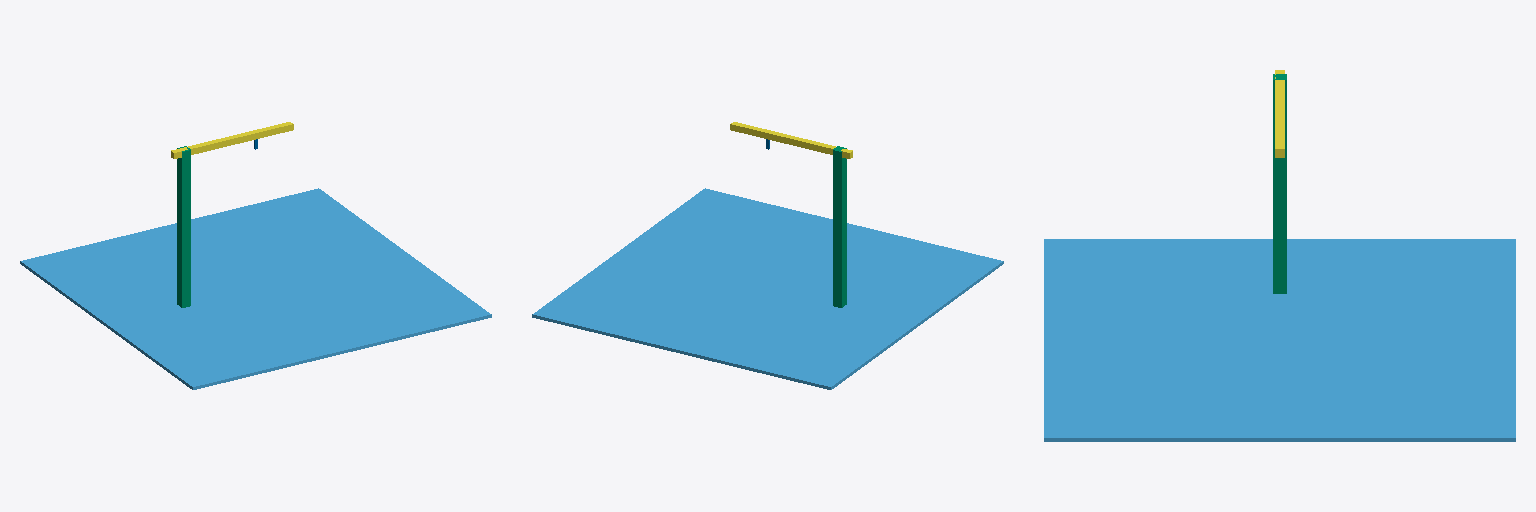
The robot description file, URDF, robot "crane_world":
<?xml version="1.0" ?>
<!-- Visualization URDF for the suspended WALKMAN setup.
     The coordinate origin is at the crane attachment point (crane_ft).
     The robot hangs below with Waist at approximately z=-0.9.

     Geometry reference (relative to crane_ft at origin):
       crane_ft = z=0  (attachment point / coordinate origin)
       Waist    ≈ z=-0.9  (through kinematic chain)
       feet     ≈ z=-1.9
       ground   → z=-2.2  (below feet with clearance)
-->
<robot name="crane_world" xmlns:xacro="http://ros.org/wiki/xacro">
    <link name="world" />

    <!-- ground plate (below the robot's feet) -->
    <link name="ground_link">
        <inertial>
            <mass value="1.0" />
            <origin xyz="0 0 0" rpy="0 0 0" />
            <inertia ixx="1.0" ixy="0" ixz="0" iyy="1.0" iyz="0" izz="1.0" />
        </inertial>
        <visual>
            <origin xyz="0 0 -0.025" rpy="0 0 0" />
            <geometry>
                <box size="5.0 5.0 0.05" />
            </geometry>
        </visual>
    </link>
    <joint name="ground_joint" type="fixed">
        <origin xyz="0 0 -2.2" rpy="0 0 0" />
        <parent link="world" />
        <child link="ground_link" />
    </joint>

    <!-- crane vertical column: stands on ground (z=-2.2) up to above attachment (z=+0.3)
         total height = 2.5m, center at z = -2.2 + 1.25 = -0.95 -->
    <link name="crane_column">
        <inertial>
            <mass value="50.0" />
            <origin xyz="0 0 0" rpy="0 0 0" />
            <inertia ixx="1.0" ixy="0" ixz="0" iyy="1.0" iyz="0" izz="1.0" />
        </inertial>
        <visual>
            <origin xyz="0 0 1.25" rpy="0 0 0" />
            <geometry>
                <box size="0.15 0.15 2.5" />
            </geometry>
        </visual>
    </link>
    <joint name="crane_column_joint" type="fixed">
        <origin xyz="-1.2 0 -2.2" rpy="0 0 0" />
        <parent link="world" />
        <child link="crane_column" />
    </joint>

    <!-- crane horizontal arm at z=+0.25 (just above attachment point at z=0)
         extends from column (x=-1.2) past the attachment (x=0) to x=+0.8 -->
    <link name="crane_arm">
        <inertial>
            <mass value="30.0" />
            <origin xyz="0 0 0" rpy="0 0 0" />
            <inertia ixx="1.0" ixy="0" ixz="0" iyy="1.0" iyz="0" izz="1.0" />
        </inertial>
        <visual>
            <origin xyz="0.8 0 0" rpy="0 0 0" />
            <geometry>
                <box size="2.0 0.10 0.10" />
            </geometry>
        </visual>
    </link>
    <joint name="crane_arm_joint" type="fixed">
        <origin xyz="-1.2 0 0.25" rpy="0 0 0" />
        <parent link="world" />
        <child link="crane_arm" />
    </joint>

    <!-- crane hook: hangs from arm (z=+0.25) down to attachment point (z=0) -->
    <link name="crane_tip">
        <inertial>
            <mass value="1.0" />
            <origin xyz="0 0 0" rpy="0 0 0" />
            <inertia ixx="0.01" ixy="0" ixz="0" iyy="0.01" iyz="0" izz="0.01" />
        </inertial>
        <visual>
            <origin xyz="0 0 -0.1" rpy="0 0 0" />
            <geometry>
                <box size="0.04 0.04 0.25" />
            </geometry>
        </visual>
    </link>
    <joint name="crane_tip_joint" type="fixed">
        <origin xyz="0 0 0.25" rpy="0 0 0" />
        <parent link="world" />
        <child link="crane_tip" />
    </joint>
</robot>

--- Render facts (derived) ---
3 views of the same robot in one strip: view 1: azimuth 30°, elevation 25°; view 2: azimuth 150°, elevation 25°; view 3: azimuth 270°, elevation 25° (orthographic).
Model crane_world with 5 links and 4 joints (4 fixed), rooted at world, posed all joints at 0.
Visible links, largest first — view 1: ground_link, crane_column, crane_arm; view 2: ground_link, crane_column, crane_arm; view 3: ground_link, crane_column, crane_arm.
Boxes of the visible links, box(x1,y1,x2,y2) form: ground_link: box(20, 188, 491, 389); crane_column: box(177, 146, 190, 307); crane_arm: box(171, 122, 293, 158); ground_link: box(532, 188, 1003, 389); crane_column: box(833, 146, 846, 307); crane_arm: box(730, 122, 852, 158); ground_link: box(1044, 239, 1515, 441); crane_column: box(1273, 74, 1286, 293); crane_arm: box(1275, 70, 1284, 157).
Bounding box of the posed robot: 5 × 5 × 2.55 m (x, y, z).
Geometry: primitives only (box / cylinder / sphere), no mesh files.
